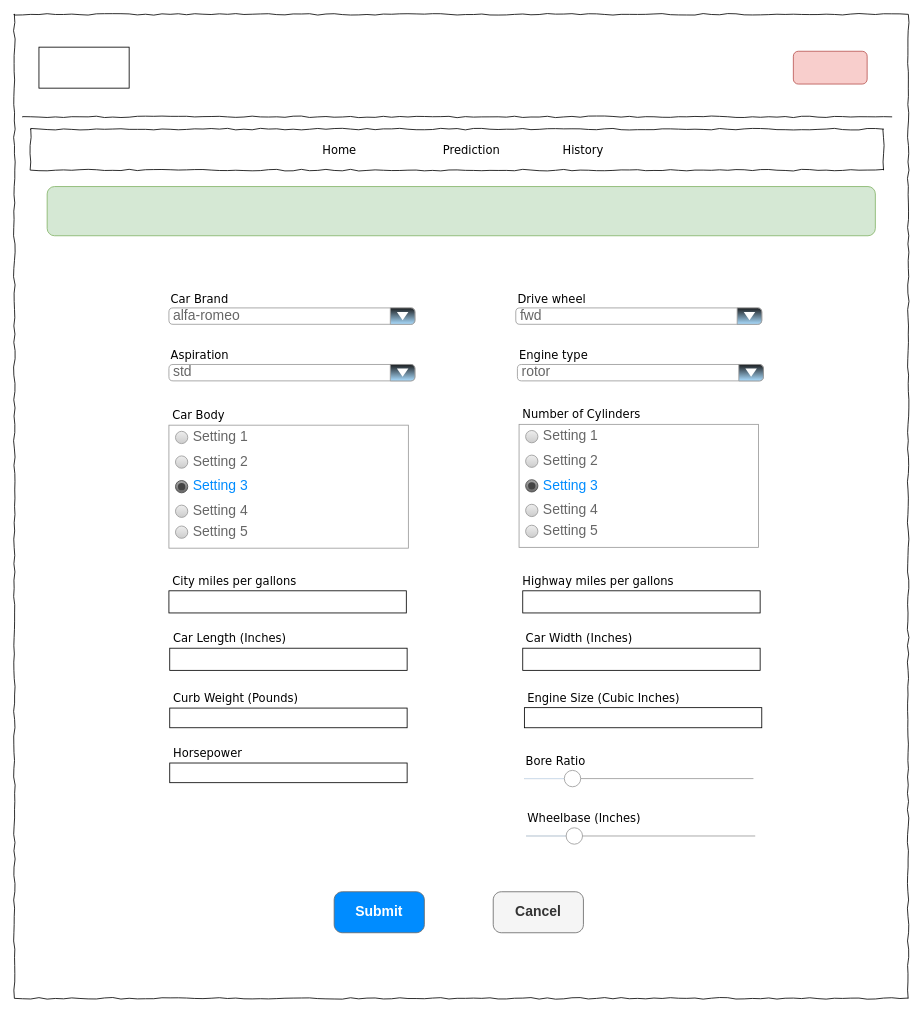
Some shapes in this 923 by 1013 pixel diagram are drawn without their labels. Each missing label, with the centre of its shape:
"LOGO" goes at pixel 83 67.
"Logout" goes at pixel 830 67.
"Prediction: $ 400000" goes at pixel 460 211.
